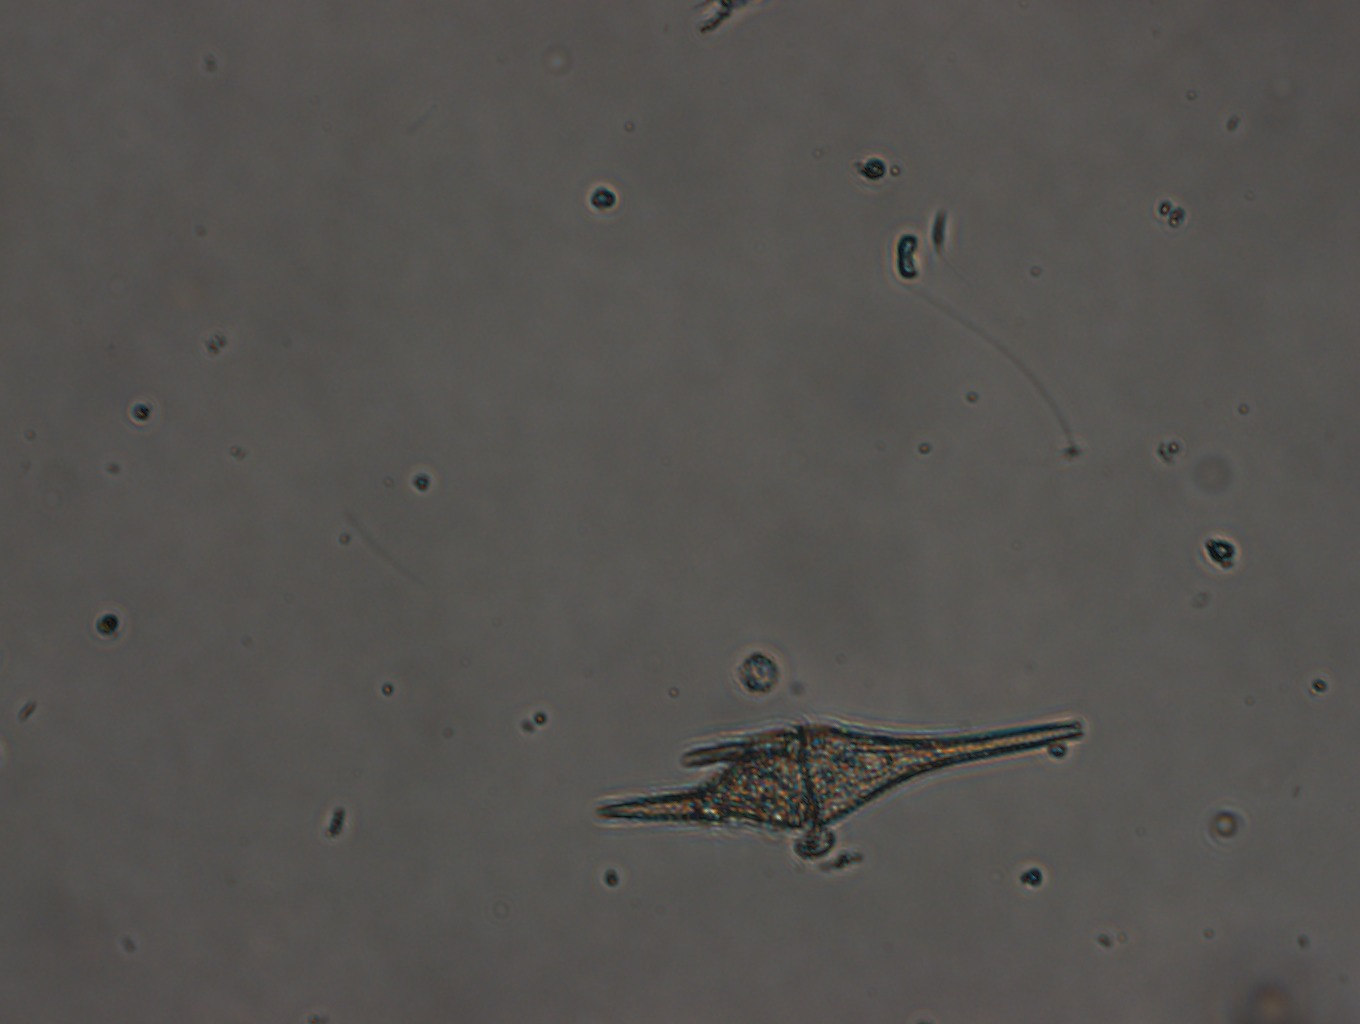ceratium furca: (587, 707, 1086, 858)
